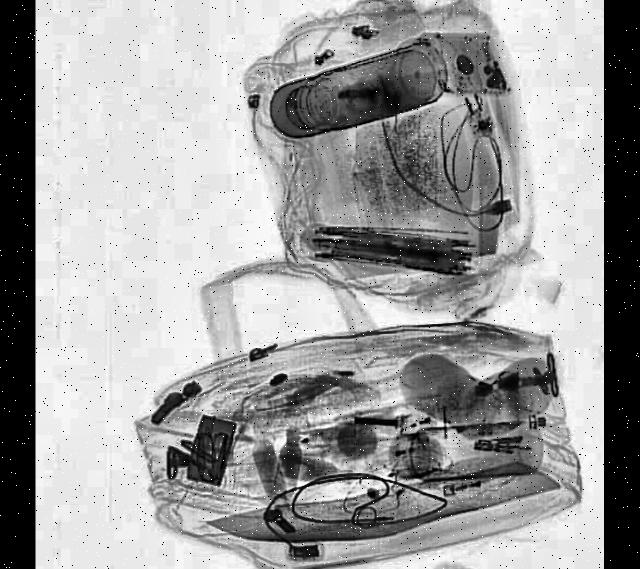Knife: (206, 449, 564, 568)
